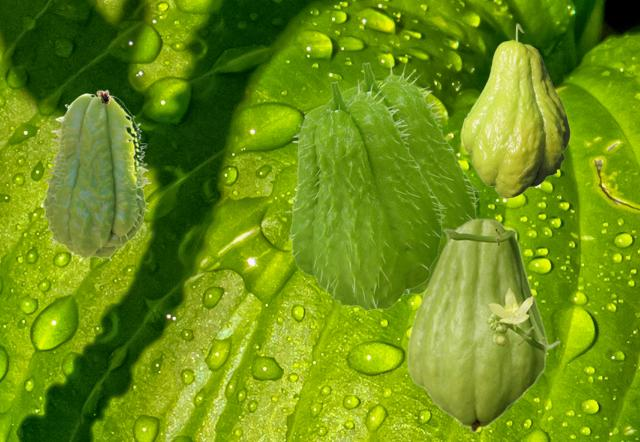sayote: (285, 78, 446, 310), (406, 218, 560, 432), (342, 59, 480, 294), (40, 89, 150, 263), (460, 23, 569, 197)
